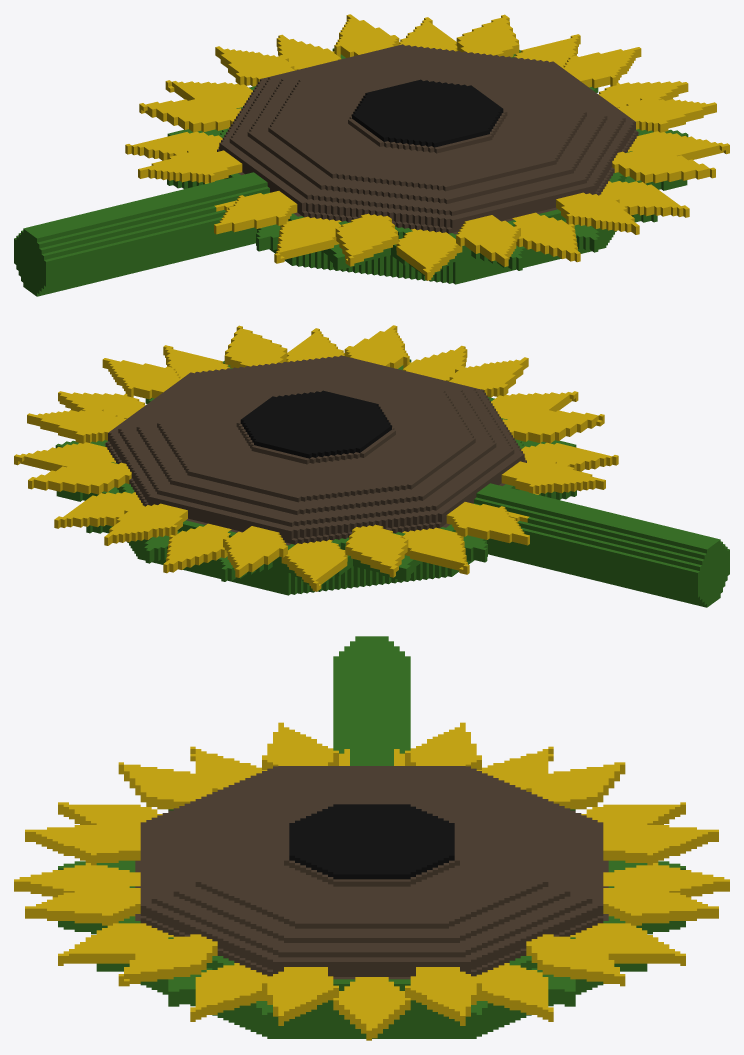
File: sunflower.glb
3 renders of one model, top to bottom at view 1: azimuth 30°, elevation 25°; view 2: azimuth 150°, elevation 25°; view 3: azimuth 270°, elevation 25°, orthographic. The views are drawn at different scales.
Visible parts, largest first — view 1: sunflower:compound; view 2: sunflower:compound; view 3: sunflower:compound.
Boxes of the visible parts, x1=… form: sunflower:compound: x1=14, y1=14, x2=729, y2=296; sunflower:compound: x1=14, y1=325, x2=729, y2=607; sunflower:compound: x1=14, y1=636, x2=729, y2=1040.
Size of the model in its own units: 0.33 by 0.04 by 0.26.
